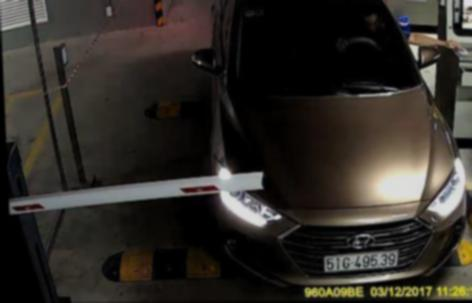License_Plate: (320, 249, 401, 274)
